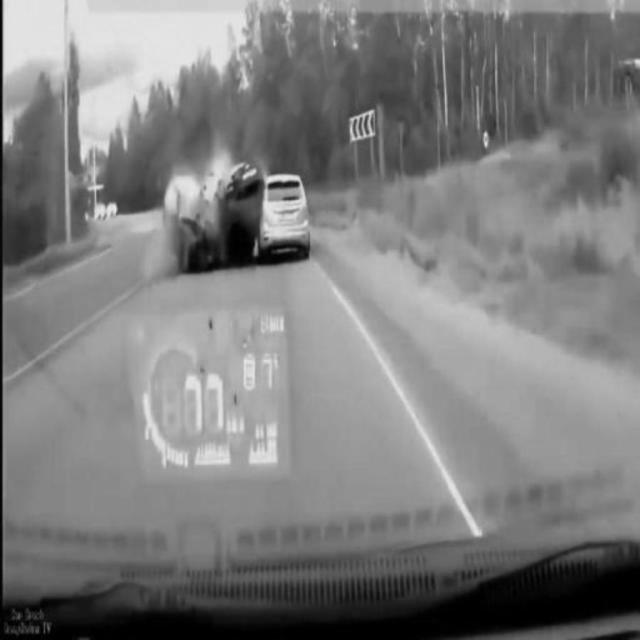accident: (169, 165, 309, 267)
